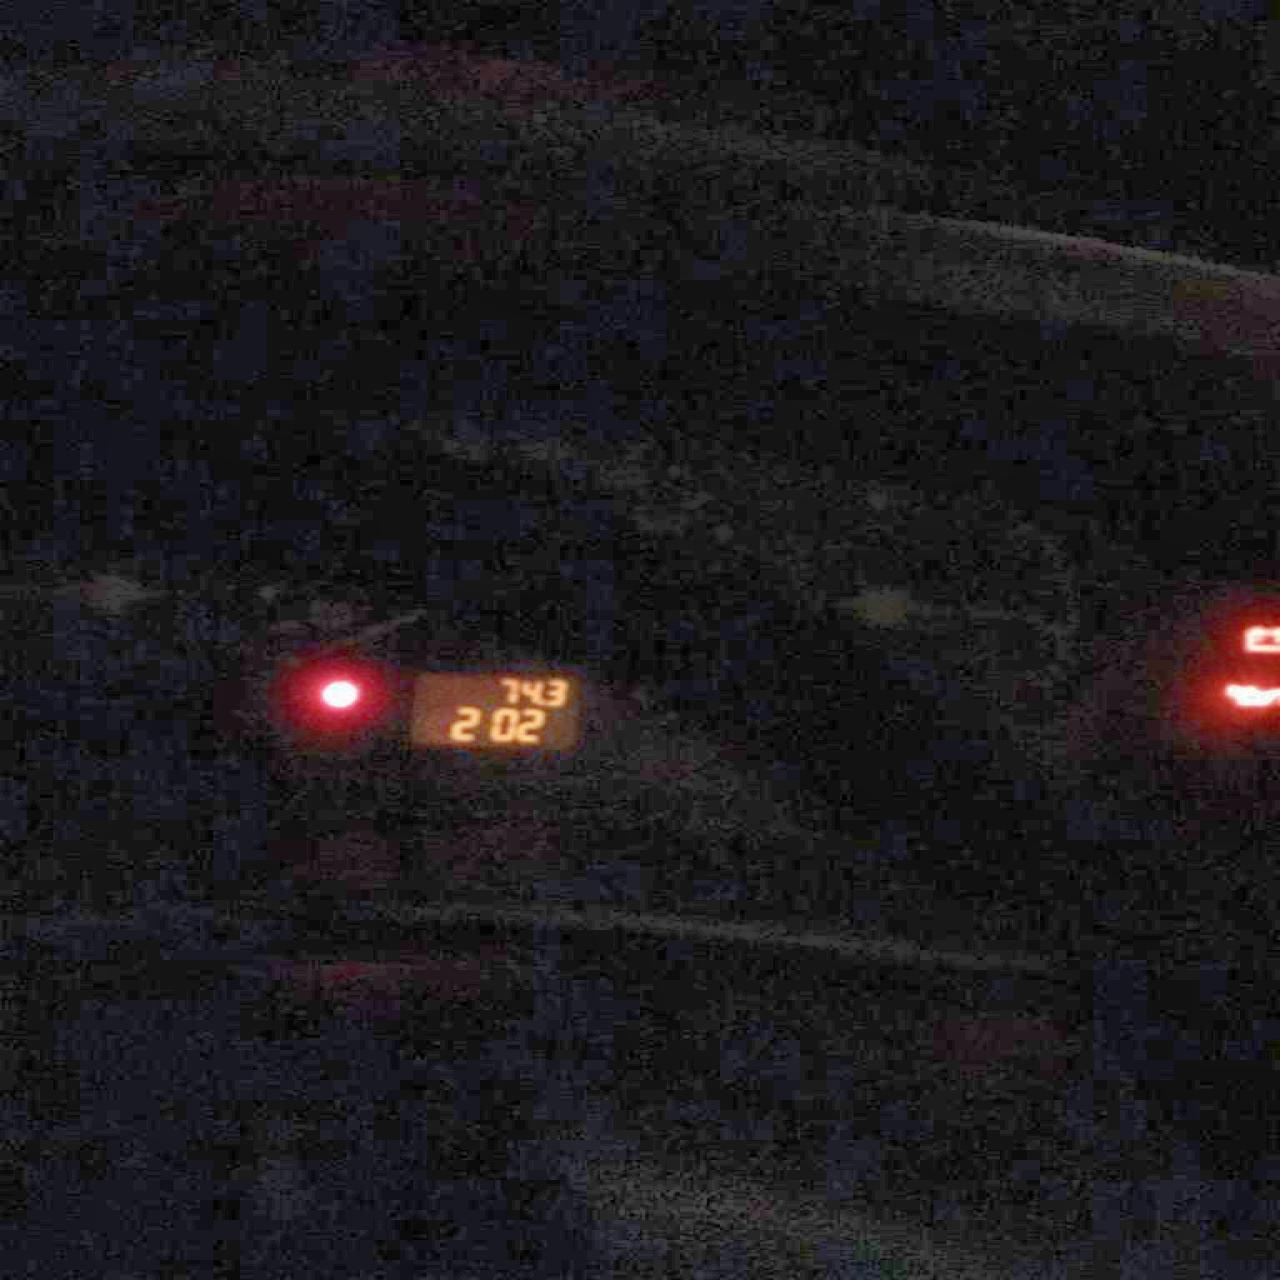-: (538, 696, 546, 704)
0: (490, 704, 515, 741)
2: (449, 702, 478, 740), (518, 704, 545, 741)
3: (546, 676, 568, 706)
4: (522, 679, 542, 701)
7: (498, 675, 519, 703)
odometer: (411, 670, 577, 745)
